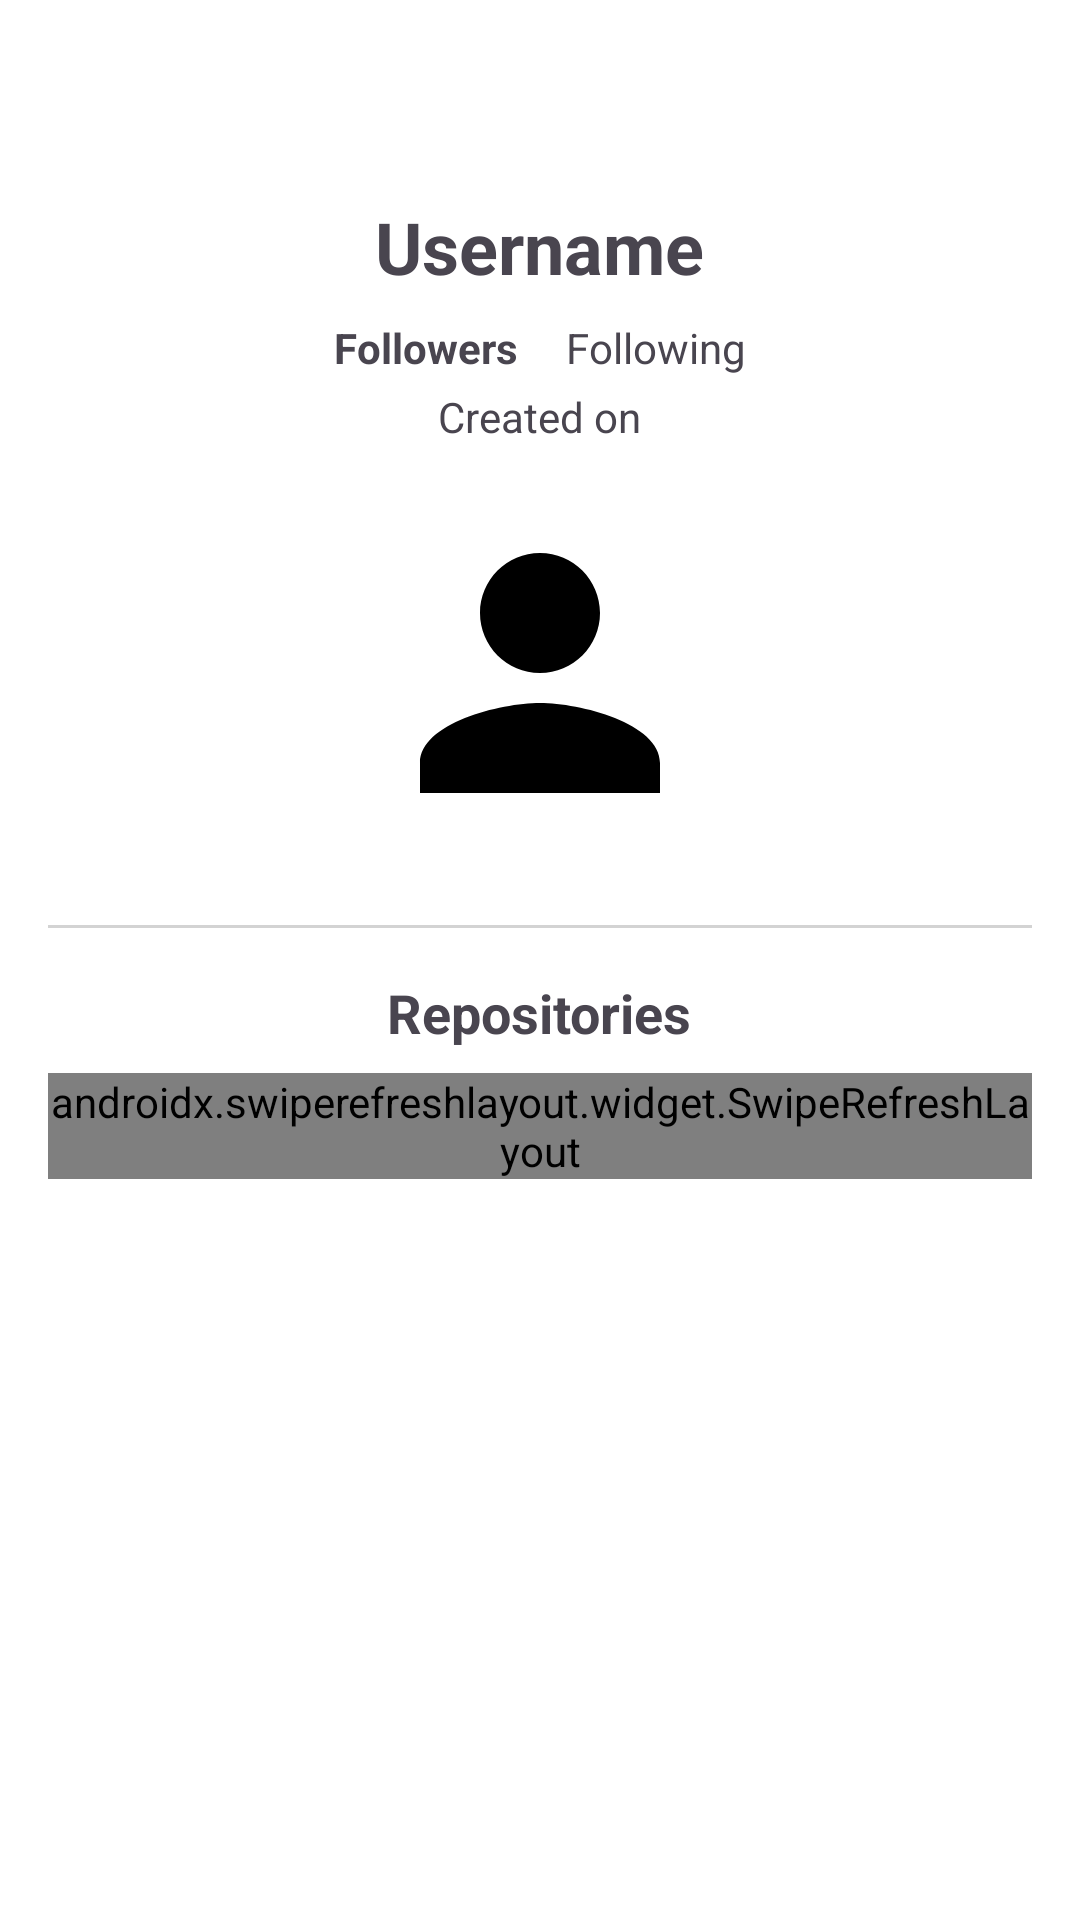

Screen size 1080x1920. Icon name, then its box in pixels as [left=x1, top=y1, right=x2, bottom=y2]:
person: [left=420, top=553, right=660, bottom=793]
